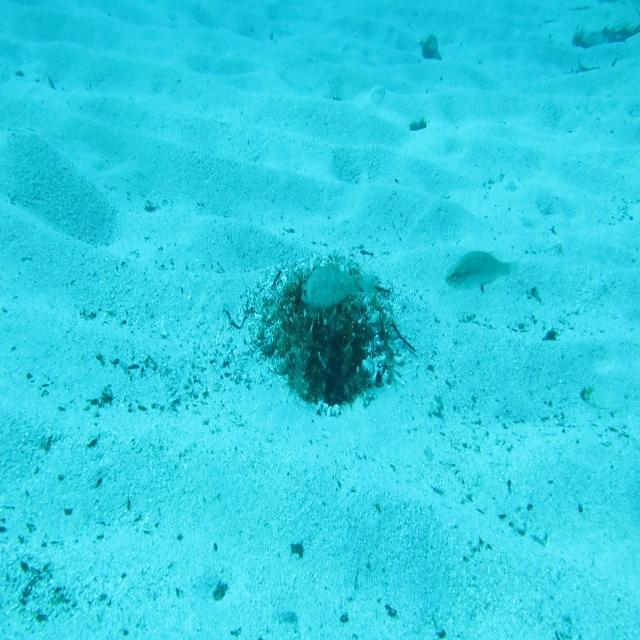INSF: (301, 262, 376, 311)
female: (443, 249, 521, 295)
nest: (238, 245, 404, 420)
vegetation: (567, 15, 640, 53), (418, 32, 442, 63), (408, 116, 430, 132)
